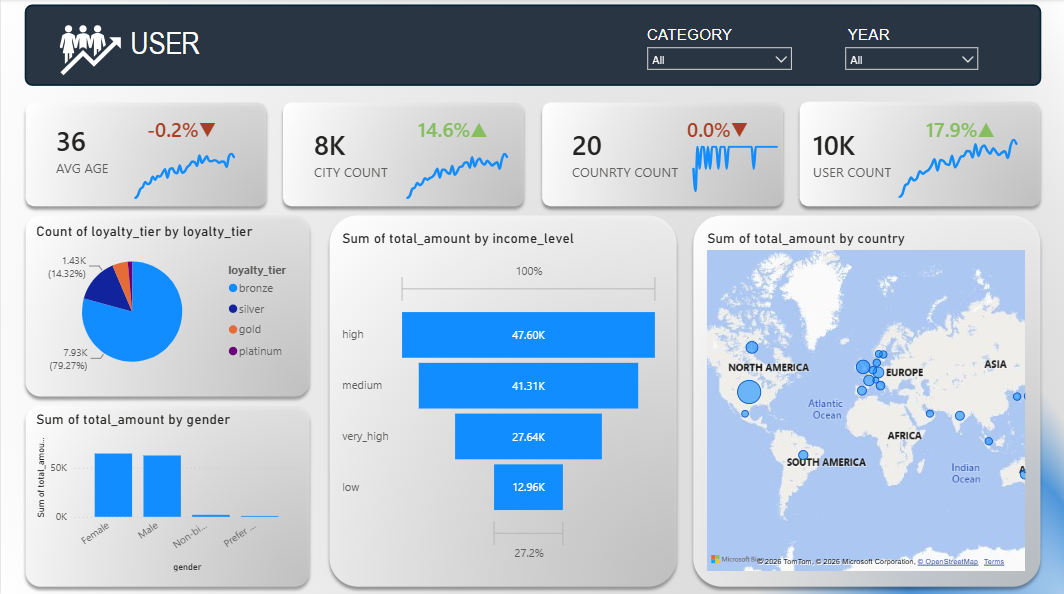

The dashboard page shown, as its layout file describes it:
{"tool":"powerbi","page":{"name":"USER","canvas":[1280,720],"ordinal":3},"visuals":[{"type":"cardVisual","fields":{"Data":["DAX Measures.AVG AGE"]},"box":[36.8,127.4,143.2,105.1],"z":0},{"type":"cardVisual","fields":{"Data":["DAX Measures.CITY COUNT"]},"box":[348.2,132.7,160.3,105.1],"z":1000},{"type":"cardVisual","fields":{"Data":["DAX Measures.COUNRTY COUNT"]},"box":[658.2,132.7,195.8,105.1],"z":2000},{"type":"cardVisual","fields":{"Data":["DAX Measures.USER COUNT"]},"box":[948.6,132.7,160.3,105.1],"z":3000},{"type":"cardVisual","fields":{"Data":["DAX Measures.% YOY AVG AGE"]},"box":[147.2,115.6,151.1,78.8],"z":4000},{"type":"cardVisual","fields":{"Data":["DAX Measures.% YOY CITY COUNT"]},"box":[473,115.6,151.1,78.8],"z":5000},{"type":"cardVisual","fields":{"Data":["DAX Measures.% YOY COUNTRY COUNT"]},"box":[797.5,115.6,151.1,78.8],"z":6000},{"type":"cardVisual","fields":{"Data":["DAX Measures.% YOY USER COUNT"]},"box":[1085.3,115.6,152.4,78.8],"z":7000},{"type":"lineChart","fields":{"Category":["users.signup_date.Variation.Date Hierarchy.Year","users.signup_date.Variation.Date Hierarchy.Quarter","users.signup_date.Variation.Date Hierarchy.Month"],"Y":["Sum(users.age)"]},"box":[147.2,172.1,148.5,73.6],"z":8000},{"type":"lineChart","fields":{"Category":["users.signup_date.Variation.Date Hierarchy.Year","users.signup_date.Variation.Date Hierarchy.Quarter","users.signup_date.Variation.Date Hierarchy.Month"],"Y":["DAX Measures.CITY COUNT"]},"box":[474.3,172.1,149.8,73.6],"z":9000},{"type":"lineChart","fields":{"Category":["users.signup_date.Variation.Date Hierarchy.Year","users.signup_date.Variation.Date Hierarchy.Quarter","users.signup_date.Variation.Date Hierarchy.Month"],"Y":["DAX Measures.COUNRTY COUNT"]},"box":[818.5,164.2,130.1,73.6],"z":10000},{"type":"lineChart","fields":{"Category":["users.signup_date.Variation.Date Hierarchy.Year","users.signup_date.Variation.Date Hierarchy.Quarter","users.signup_date.Variation.Date Hierarchy.Month"],"Y":["DAX Measures.USER COUNT"]},"box":[1066.9,155,170.8,89.3],"z":11000},{"type":"clusteredColumnChart","fields":{"Y":["Sum(purchases.total_amount)"],"Category":["users.gender"]},"box":[36.8,496.6,327.2,198.4],"z":14000},{"type":"pieChart","fields":{"Category":["users.loyalty_tier"],"Y":["CountNonNull(users.loyalty_tier)"]},"box":[36.8,269.3,327.2,194.5],"z":15000},{"type":"funnel","fields":{"Category":["users.income_level","users.loyalty_tier"],"Y":["Sum(purchases.total_amount)"]},"box":[406,278.5,391.5,416.5],"z":16000},{"type":"map","fields":{"Category":["users.country"],"Size":["Sum(purchases.total_amount)"]},"box":[844.8,278.5,392.8,416.5],"z":17000},{"type":"slicer","fields":{"Values":["products.category"]},"box":[768,48.2,194.1,45.4],"z":17001},{"type":"slicer","fields":{"Values":["purchases.order_date.Variation.Date Hierarchy.Year"]},"box":[1006.1,48.2,180.3,49.5],"z":17002}]}

Visuals, with their boxes in screenshot pixels (x1, y1, x2, y2), scaled from the page's 1280x720 canvas onto the 1064x594 screenshot:
cardVisual - DAX Measures.AVG AGE: <region>31, 105, 150, 192</region>
cardVisual - DAX Measures.CITY COUNT: <region>289, 109, 423, 196</region>
cardVisual - DAX Measures.COUNRTY COUNT: <region>547, 109, 710, 196</region>
cardVisual - DAX Measures.USER COUNT: <region>789, 109, 922, 196</region>
cardVisual - DAX Measures.% YOY AVG AGE: <region>122, 95, 248, 160</region>
cardVisual - DAX Measures.% YOY CITY COUNT: <region>393, 95, 519, 160</region>
cardVisual - DAX Measures.% YOY COUNTRY COUNT: <region>663, 95, 789, 160</region>
cardVisual - DAX Measures.% YOY USER COUNT: <region>902, 95, 1029, 160</region>
lineChart - users.signup_date.Variation.Date Hierarchy.Year x users.signup_date.Variation.Date Hierarchy.Quarter: <region>122, 142, 246, 203</region>
lineChart - users.signup_date.Variation.Date Hierarchy.Year x users.signup_date.Variation.Date Hierarchy.Quarter: <region>394, 142, 519, 203</region>
lineChart - users.signup_date.Variation.Date Hierarchy.Year x users.signup_date.Variation.Date Hierarchy.Quarter: <region>680, 135, 789, 196</region>
lineChart - users.signup_date.Variation.Date Hierarchy.Year x users.signup_date.Variation.Date Hierarchy.Quarter: <region>887, 128, 1029, 202</region>
clusteredColumnChart - Sum(purchases.total_amount) x users.gender: <region>31, 410, 303, 573</region>
pieChart - users.loyalty_tier x CountNonNull(users.loyalty_tier): <region>31, 222, 303, 383</region>
funnel - users.income_level x users.loyalty_tier: <region>337, 230, 663, 573</region>
map - users.country x Sum(purchases.total_amount): <region>702, 230, 1029, 573</region>
slicer - products.category: <region>638, 40, 800, 77</region>
slicer - purchases.order_date.Variation.Date Hierarchy.Year: <region>836, 40, 986, 81</region>
